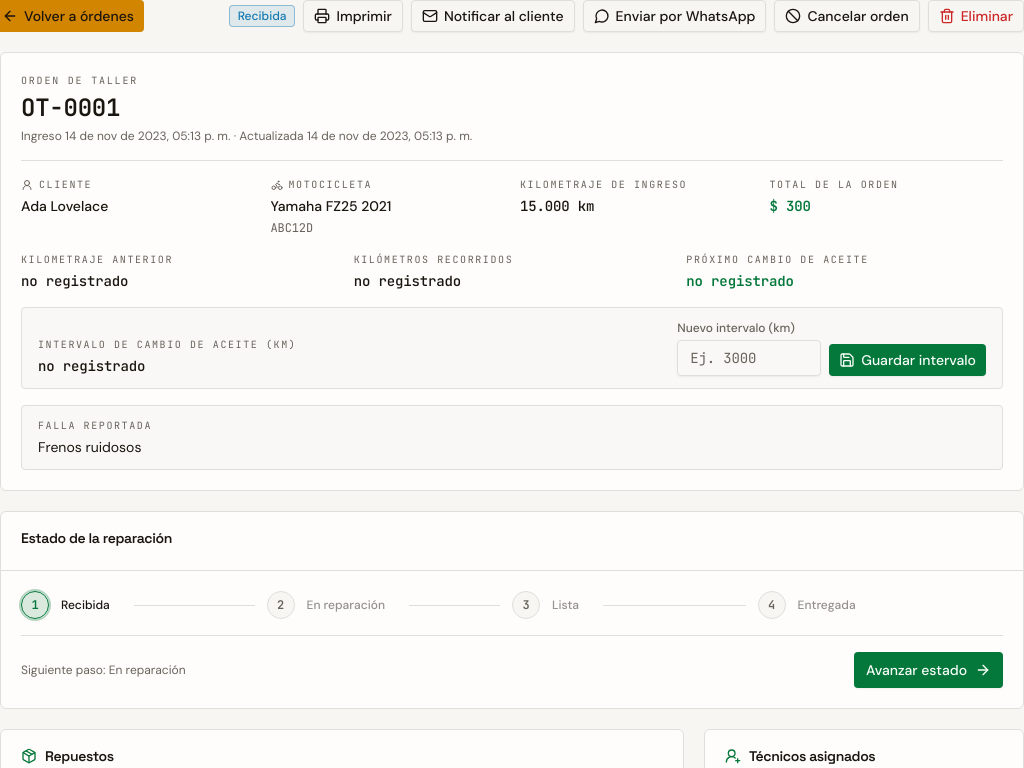
Test: Service-terms footer seam (characterization) › keeps the default service-terms footer on the work order document
Expected: the heading "OT-0001" is shown, [21,92,120,123]
Click the button with test id "order_detail.print_button" at (353, 16), box [304,0,403,32]
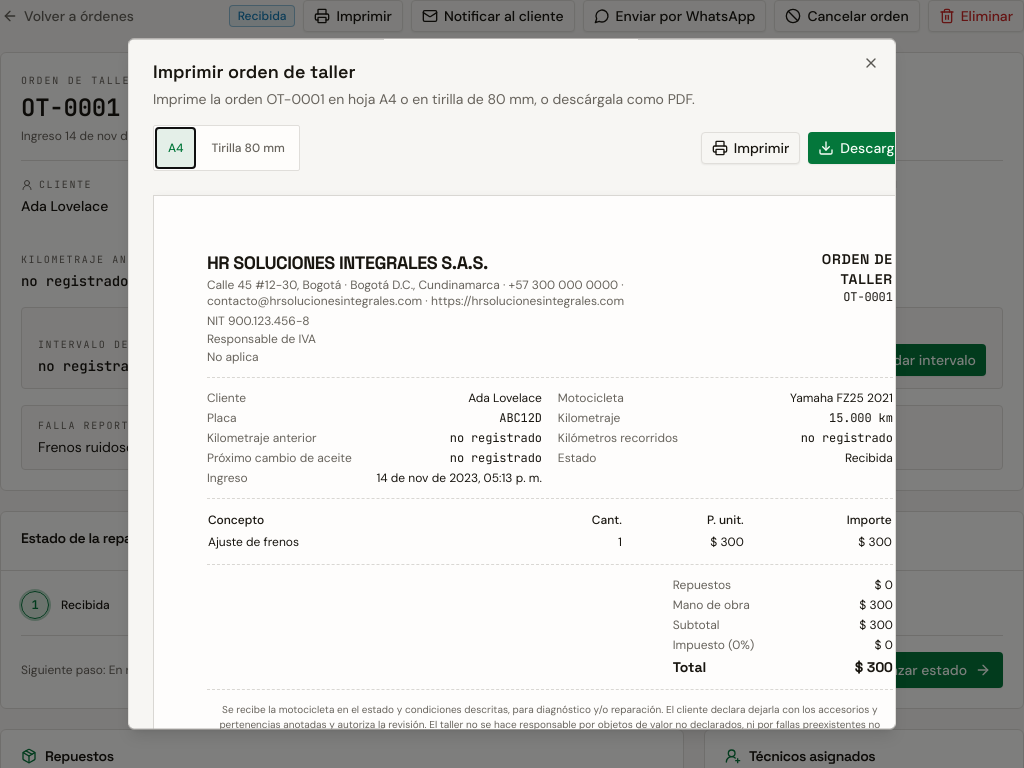
Expected: the text "Se recibe la motocicleta en el estado y condiciones descritas, para diagnóstico y/o reparación. El cliente declara dejar" is shown, [219,703,880,730]
